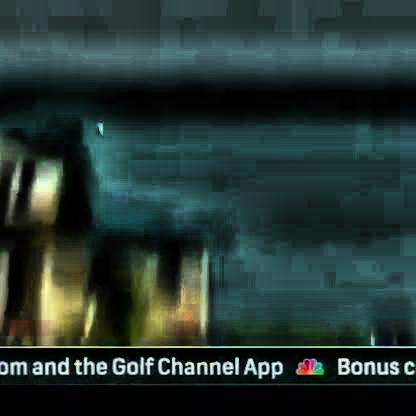golfball: (95, 119, 102, 130)
